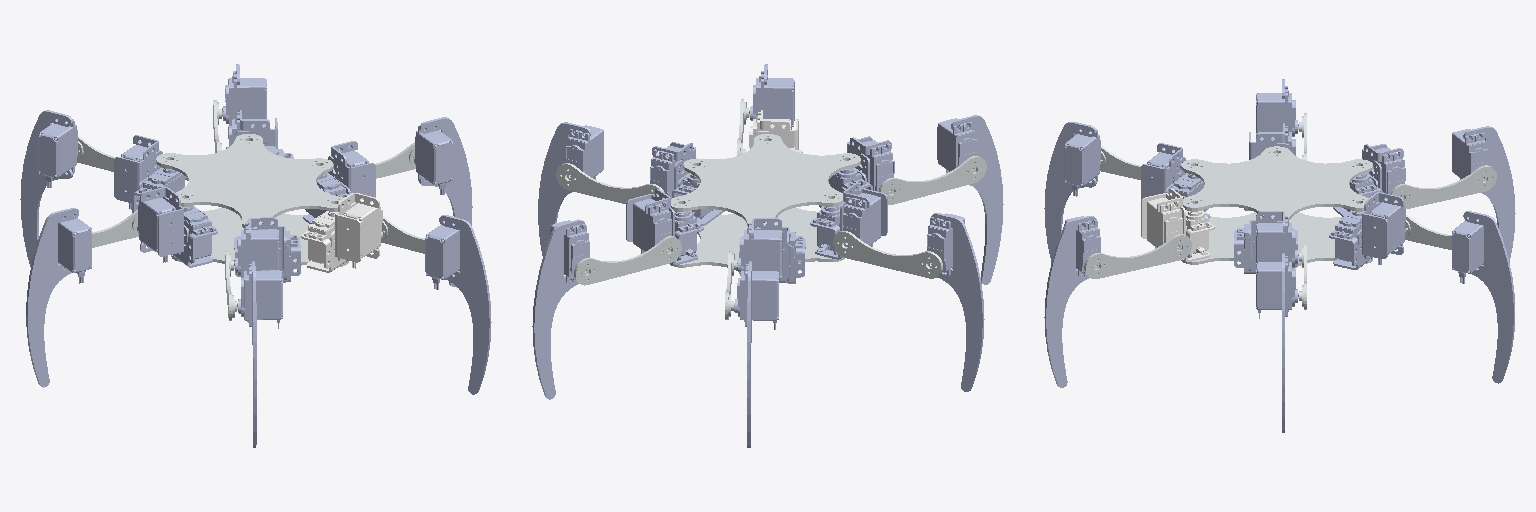
--- Render facts (derived) ---
3 views of the same robot in one strip: view 1: azimuth 30°, elevation 25°; view 2: azimuth 150°, elevation 25°; view 3: azimuth 270°, elevation 25° (orthographic).
Model spider URDF with 19 links and 18 joints (18 revolute), rooted at main_body, posed every joint at zero.
Links seen in each view (by area): view 1: main_body, L2_tibia, R3_tibia, L1_tibia, R3_coxa, L2_coxa, R2_tibia, L3_coxa, L1_coxa, L3_tibia, R2_coxa, R1_tibia (+5 smaller); view 2: main_body, L2_tibia, R1_tibia, L3_tibia, R2_tibia, L2_coxa, R1_coxa, L1_coxa, L1_tibia, R2_coxa, L3_coxa, L2_femur (+5 smaller); view 3: main_body, R1_tibia, R3_tibia, L3_tibia, R1_coxa, L1_tibia, R3_coxa, R2_coxa, R2_tibia, L3_coxa, R3_femur, L1_coxa (+5 smaller).
Link boxes in pixels (x1,y1,x2,y2): main_body: (156,134,348,266); L2_tibia: (26,208,91,387); R3_tibia: (425,215,491,394); L1_tibia: (20,110,77,266); R3_coxa: (301,193,382,272); L2_coxa: (137,187,217,267); R2_tibia: (414,117,472,286); L3_coxa: (234,217,300,282); L1_coxa: (114,135,187,212); L3_tibia: (237,261,282,447); R2_coxa: (303,141,375,223); R1_tibia: (222,64,266,125); main_body: (670,134,860,270); L2_tibia: (927,213,984,391); R1_tibia: (532,219,589,399); L3_tibia: (937,115,1003,284); R2_tibia: (538,122,603,255); L2_coxa: (810,183,887,259); R1_coxa: (626,189,703,264); L1_coxa: (737,218,805,283); L1_tibia: (734,261,778,447); R2_coxa: (650,142,724,225); L3_coxa: (819,136,894,207); L2_femur: (833,231,942,278); main_body: (1181,146,1372,268); R1_tibia: (1452,211,1514,383); R3_tibia: (1044,216,1100,387); L3_tibia: (1044,122,1100,262); R1_coxa: (1329,192,1405,269); L1_tibia: (1452,126,1515,262); R3_coxa: (1141,188,1214,261); R2_coxa: (1234,211,1298,273); R2_tibia: (1256,253,1298,432); L3_coxa: (1141,143,1209,217); R3_femur: (1084,234,1191,278); L1_coxa: (1333,144,1405,216).
Bounding box of the posed robot: 0.45 × 0.4288 × 0.1654 m (x, y, z).
Meshes: 19 distinct files referenced, 19 mesh visuals loaded (19 binary STL).

URDF robot description (spider URDF):
<?xml version="1.0" encoding="utf-8"?>
<!-- This URDF was automatically created by SolidWorks to URDF Exporter! Originally created by Stephen Brawner ([email redacted]) 
     Commit Version: 1.5.1-0-g916b5db  Build Version: 1.5.7152.31018
     For more information, please see http://wiki.ros.org/sw_urdf_exporter -->
<robot
  name="spider URDF">
  <link
    name="main_body">
    <inertial>
      <origin
        xyz="4.9901E-19 -0.024667 -4.6907E-18"
        rpy="0 0 0" />
      <mass
        value="0.27159" />
      <inertia
        ixx="0.00047029"
        ixy="9.2461E-22"
        ixz="-8.9369E-20"
        iyy="0.00076993"
        iyz="6.8455E-23"
        izz="0.00030006" />
    </inertial>
    <visual>
      <origin
        xyz="0 0 0"
        rpy="0 0 0" />
      <geometry>
        <mesh
          filename="package://spider URDF/meshes/main_body.STL" />
      </geometry>
      <material
        name="">
        <color
          rgba="0.89804 0.91765 0.92941 1" />
      </material>
    </visual>
    <collision>
      <origin
        xyz="0 0 0"
        rpy="0 0 0" />
      <geometry>
        <mesh
          filename="package://spider URDF/meshes/main_body.STL" />
      </geometry>
    </collision>
  </link>
  <link
    name="L1_coxa">
    <inertial>
      <origin
        xyz="0.024776 0.0016341 0.0035142"
        rpy="0 0 0" />
      <mass
        value="0.14547" />
      <inertia
        ixx="4.1777E-05"
        ixy="-5.3584E-07"
        ixz="5.3557E-07"
        iyy="2.672E-05"
        iyz="-4.9151E-13"
        izz="2.672E-05" />
    </inertial>
    <visual>
      <origin
        xyz="0 0 0"
        rpy="0 0 0" />
      <geometry>
        <mesh
          filename="package://spider URDF/meshes/L1_coxa.STL" />
      </geometry>
      <material
        name="">
        <color
          rgba="0.79216 0.81961 0.93333 1" />
      </material>
    </visual>
    <collision>
      <origin
        xyz="0 0 0"
        rpy="0 0 0" />
      <geometry>
        <mesh
          filename="package://spider URDF/meshes/L1_coxa.STL" />
      </geometry>
    </collision>
  </link>
  <joint
    name="L1_joint1"
    type="revolute">
    <origin
      xyz="-0.044415 0.061418 -0.023391"
      rpy="1.5708 0 2.0608" />
    <parent
      link="main_body" />
    <child
      link="L1_coxa" />
    <axis
      xyz="0 0 0" />
    <limit
      lower="0"
      upper="0"
      effort="0"
      velocity="0" />
  </joint>
  <link
    name="L1_femur">
    <inertial>
      <origin
        xyz="0.0425 0.0020723 -0.00096249"
        rpy="0 0 0" />
      <mass
        value="0.018954" />
      <inertia
        ixx="6.9019E-07"
        ixy="9.6701E-21"
        ixz="-3.3617E-21"
        iyy="1.6508E-05"
        iyz="2.0543E-21"
        izz="1.7168E-05" />
    </inertial>
    <visual>
      <origin
        xyz="0 0 0"
        rpy="0 0 0" />
      <geometry>
        <mesh
          filename="package://spider URDF/meshes/L1_femur.STL" />
      </geometry>
      <material
        name="">
        <color
          rgba="0.89804 0.92157 0.92941 1" />
      </material>
    </visual>
    <collision>
      <origin
        xyz="0 0 0"
        rpy="0 0 0" />
      <geometry>
        <mesh
          filename="package://spider URDF/meshes/L1_femur.STL" />
      </geometry>
    </collision>
  </link>
  <joint
    name="L1_joint2"
    type="revolute">
    <origin
      xyz="0.039646 -0.001781 0.034959"
      rpy="-3.1416 0 0" />
    <parent
      link="L1_coxa" />
    <child
      link="L1_femur" />
    <axis
      xyz="0 0 0" />
    <limit
      lower="0"
      upper="0"
      effort="0"
      velocity="0" />
  </joint>
  <link
    name="L1_tibia">
    <inertial>
      <origin
        xyz="0.017865 -0.00025918 0.013634"
        rpy="0 0 0" />
      <mass
        value="0.083453" />
      <inertia
        ixx="6.3949E-05"
        ixy="-1.3189E-10"
        ixz="-6.8552E-06"
        iyy="6.307E-05"
        iyz="-1.5501E-07"
        izz="1.127E-05" />
    </inertial>
    <visual>
      <origin
        xyz="0 0 0"
        rpy="0 0 0" />
      <geometry>
        <mesh
          filename="package://spider URDF/meshes/L1_tibia.STL" />
      </geometry>
      <material
        name="">
        <color
          rgba="0.79216 0.81961 0.93333 1" />
      </material>
    </visual>
    <collision>
      <origin
        xyz="0 0 0"
        rpy="0 0 0" />
      <geometry>
        <mesh
          filename="package://spider URDF/meshes/L1_tibia.STL" />
      </geometry>
    </collision>
  </link>
  <joint
    name="L1_joint3"
    type="revolute">
    <origin
      xyz="0.075094 -0.010287 0.023391"
      rpy="-1.5708 0 0" />
    <parent
      link="L1_femur" />
    <child
      link="L1_tibia" />
    <axis
      xyz="0 0 0" />
    <limit
      lower="0"
      upper="0"
      effort="0"
      velocity="0" />
  </joint>
  <link
    name="L2_coxa">
    <inertial>
      <origin
        xyz="0.024776 0.0016341 0.0035142"
        rpy="0 0 0" />
      <mass
        value="0.14547" />
      <inertia
        ixx="4.1777E-05"
        ixy="-5.3584E-07"
        ixz="5.3557E-07"
        iyy="2.672E-05"
        iyz="9.3978E-21"
        izz="2.672E-05" />
    </inertial>
    <visual>
      <origin
        xyz="0 0 0"
        rpy="0 0 0" />
      <geometry>
        <mesh
          filename="package://spider URDF/meshes/L2_coxa.STL" />
      </geometry>
      <material
        name="">
        <color
          rgba="0.79216 0.81961 0.93333 1" />
      </material>
    </visual>
    <collision>
      <origin
        xyz="0 0 0"
        rpy="0 0 0" />
      <geometry>
        <mesh
          filename="package://spider URDF/meshes/L2_coxa.STL" />
      </geometry>
    </collision>
  </link>
  <joint
    name="L2_joint1"
    type="revolute">
    <origin
      xyz="-0.057933 -0.010287 -0.023391"
      rpy="1.5708 0 -3.1416" />
    <parent
      link="main_body" />
    <child
      link="L2_coxa" />
    <axis
      xyz="0 0 0" />
    <limit
      lower="0"
      upper="0"
      effort="0"
      velocity="0" />
  </joint>
  <link
    name="L2_femur">
    <inertial>
      <origin
        xyz="0.0425 0.0020723 -0.00096249"
        rpy="0 0 0" />
      <mass
        value="0.018954" />
      <inertia
        ixx="6.9019E-07"
        ixy="1.0007E-21"
        ixz="8.0411E-21"
        iyy="1.6508E-05"
        iyz="1.6303E-21"
        izz="1.7168E-05" />
    </inertial>
    <visual>
      <origin
        xyz="0 0 0"
        rpy="0 0 0" />
      <geometry>
        <mesh
          filename="package://spider URDF/meshes/L2_femur.STL" />
      </geometry>
      <material
        name="">
        <color
          rgba="0.89804 0.92157 0.92941 1" />
      </material>
    </visual>
    <collision>
      <origin
        xyz="0 0 0"
        rpy="0 0 0" />
      <geometry>
        <mesh
          filename="package://spider URDF/meshes/L2_femur.STL" />
      </geometry>
    </collision>
  </link>
  <joint
    name="L2_joint2"
    type="revolute">
    <origin
      xyz="0.039646 -0.001781 0.034959"
      rpy="3.1416 0 0" />
    <parent
      link="L2_coxa" />
    <child
      link="L2_femur" />
    <axis
      xyz="0 0 0" />
    <limit
      lower="0"
      upper="0"
      effort="0"
      velocity="0" />
  </joint>
  <link
    name="L2_tibia">
    <inertial>
      <origin
        xyz="0.017865 -0.00025918 0.013634"
        rpy="0 0 0" />
      <mass
        value="0.083453" />
      <inertia
        ixx="6.3949E-05"
        ixy="-1.3191E-10"
        ixz="-6.8552E-06"
        iyy="6.307E-05"
        iyz="-1.5501E-07"
        izz="1.127E-05" />
    </inertial>
    <visual>
      <origin
        xyz="0 0 0"
        rpy="0 0 0" />
      <geometry>
        <mesh
          filename="package://spider URDF/meshes/L2_tibia.STL" />
      </geometry>
      <material
        name="">
        <color
          rgba="0.79216 0.81961 0.93333 1" />
      </material>
    </visual>
    <collision>
      <origin
        xyz="0 0 0"
        rpy="0 0 0" />
      <geometry>
        <mesh
          filename="package://spider URDF/meshes/L2_tibia.STL" />
      </geometry>
    </collision>
  </link>
  <joint
    name="L2_joint3"
    type="revolute">
    <origin
      xyz="0.075094 -0.010287 0.023391"
      rpy="-1.5708 0 0" />
    <parent
      link="L2_femur" />
    <child
      link="L2_tibia" />
    <axis
      xyz="0 0 0" />
    <limit
      lower="0"
      upper="0"
      effort="0"
      velocity="0" />
  </joint>
  <link
    name="L3_coxa">
    <inertial>
      <origin
        xyz="0.0247761020098556 0.00163413195267163 0.00351420592765425"
        rpy="0 0 0" />
      <mass
        value="0.145467159991245" />
      <inertia
        ixx="4.17771437174694E-05"
        ixy="-5.35841791312057E-07"
        ixz="5.35574459198207E-07"
        iyy="2.67197998012243E-05"
        iyz="-4.54267233403865E-13"
        izz="2.67198002995217E-05" />
    </inertial>
    <visual>
      <origin
        xyz="0 0 0"
        rpy="0 0 0" />
      <geometry>
        <mesh
          filename="package://spider URDF/meshes/L3_coxa.STL" />
      </geometry>
      <material
        name="">
        <color
          rgba="0.792156862745098 0.819607843137255 0.933333333333333 1" />
      </material>
    </visual>
    <collision>
      <origin
        xyz="0 0 0"
        rpy="0 0 0" />
      <geometry>
        <mesh
          filename="package://spider URDF/meshes/L3_coxa.STL" />
      </geometry>
    </collision>
  </link>
  <joint
    name="L3_joint1"
    type="revolute">
    <origin
      xyz="-0.026262 -0.0711 -0.023391"
      rpy="1.5708 0 -2.0608" />
    <parent
      link="main_body" />
    <child
      link="L3_coxa" />
    <axis
      xyz="0 0 0" />
    <limit
      lower="0"
      upper="0"
      effort="0"
      velocity="0" />
  </joint>
  <link
    name="L3_femur">
    <inertial>
      <origin
        xyz="0.0424999999999998 0.00207234047327515 -0.000962489733139935"
        rpy="0 0 0" />
      <mass
        value="0.0189543856263249" />
      <inertia
        ixx="6.90193645790596E-07"
        ixy="1.27381764483632E-20"
        ixz="4.39398341388168E-21"
        iyy="1.6507785713016E-05"
        iyz="1.73571570000484E-21"
        izz="1.71682624360507E-05" />
    </inertial>
    <visual>
      <origin
        xyz="0 0 0"
        rpy="0 0 0" />
      <geometry>
        <mesh
          filename="package://spider URDF/meshes/L3_femur.STL" />
      </geometry>
      <material
        name="">
        <color
          rgba="0.898039215686275 0.92156862745098 0.929411764705882 1" />
      </material>
    </visual>
    <collision>
      <origin
        xyz="0 0 0"
        rpy="0 0 0" />
      <geometry>
        <mesh
          filename="package://spider URDF/meshes/L3_femur.STL" />
      </geometry>
    </collision>
  </link>
  <joint
    name="L3_joint2"
    type="revolute">
    <origin
      xyz="0.039646 -0.001781 0.034959"
      rpy="3.1416 0 0" />
    <parent
      link="L3_coxa" />
    <child
      link="L3_femur" />
    <axis
      xyz="0 0 0" />
    <limit
      lower="0"
      upper="0"
      effort="0"
      velocity="0" />
  </joint>
  <link
    name="L3_tibia">
    <inertial>
      <origin
        xyz="0.0178645520428122 -0.000259178845722352 0.0136344638552385"
        rpy="0 0 0" />
      <mass
        value="0.0834526923953858" />
      <inertia
        ixx="6.39493660790735E-05"
        ixy="-1.31925906158266E-10"
        ixz="-6.8551643119347E-06"
        iyy="6.30699307053158E-05"
        iyz="-1.55008121913509E-07"
        izz="1.1270061788477E-05" />
    </inertial>
    <visual>
      <origin
        xyz="0 0 0"
        rpy="0 0 0" />
      <geometry>
        <mesh
          filename="package://spider URDF/meshes/L3_tibia.STL" />
      </geometry>
      <material
        name="">
        <color
          rgba="0.792156862745098 0.819607843137255 0.933333333333333 1" />
      </material>
    </visual>
    <collision>
      <origin
        xyz="0 0 0"
        rpy="0 0 0" />
      <geometry>
        <mesh
          filename="package://spider URDF/meshes/L3_tibia.STL" />
      </geometry>
    </collision>
  </link>
  <joint
    name="L3_joint3"
    type="revolute">
    <origin
      xyz="0.075094 -0.010287 0.023391"
      rpy="-1.5708 0 0" />
    <parent
      link="L3_femur" />
    <child
      link="L3_tibia" />
    <axis
      xyz="0 0 0" />
    <limit
      lower="0"
      upper="0"
      effort="0"
      velocity="0" />
  </joint>
  <link
    name="R1_coxa">
    <inertial>
      <origin
        xyz="-0.00496389814092921 0.00163413195267159 0.00351420592765427"
        rpy="0 0 0" />
      <mass
        value="0.145467159991244" />
      <inertia
        ixx="4.17771437174693E-05"
        ixy="5.35468938005543E-07"
        ixz="-5.35736270119368E-07"
        iyy="2.67197998012243E-05"
        iyz="-4.5426722982148E-13"
        izz="2.67198002995216E-05" />
    </inertial>
    <visual>
      <origin
        xyz="0 0 0"
        rpy="0 0 0" />
      <geometry>
        <mesh
          filename="package://spider URDF/meshes/R1_coxa.STL" />
      </geometry>
      <material
        name="">
        <color
          rgba="0.792156862745098 0.819607843137255 0.933333333333333 1" />
      </material>
    </visual>
    <collision>
      <origin
        xyz="0 0 0"
        rpy="0 0 0" />
      <geometry>
        <mesh
          filename="package://spider URDF/meshes/R1_coxa.STL" />
      </geometry>
    </collision>
  </link>
  <joint
    name="R1_joint1"
    type="revolute">
    <origin
      xyz="0.053738 0.0789 -0.023391"
      rpy="1.5708 0 -2.0608" />
    <parent
      link="main_body" />
    <child
      link="R1_coxa" />
    <axis
      xyz="0 0 0" />
    <limit
      lower="0"
      upper="0"
      effort="0"
      velocity="0" />
  </joint>
  <link
    name="R1_femur">
    <inertial>
      <origin
        xyz="-0.0425000000015365 0.00207234047173503 -0.000962489734160528"
        rpy="0 0 0" />
      <mass
        value="0.0189543856263249" />
      <inertia
        ixx="6.90193645790598E-07"
        ixy="5.86660156904445E-21"
        ixz="3.70576914423756E-21"
        iyy="1.65077857130159E-05"
        iyz="1.980438158562E-21"
        izz="1.71682624360507E-05" />
    </inertial>
    <visual>
      <origin
        xyz="0 0 0"
        rpy="0 0 0" />
      <geometry>
        <mesh
          filename="package://spider URDF/meshes/R1_femur.STL" />
      </geometry>
      <material
        name="">
        <color
          rgba="0.898039215686275 0.92156862745098 0.929411764705882 1" />
      </material>
    </visual>
    <collision>
      <origin
        xyz="0 0 0"
        rpy="0 0 0" />
      <geometry>
        <mesh
          filename="package://spider URDF/meshes/R1_femur.STL" />
      </geometry>
    </collision>
  </link>
  <joint
    name="R1_joint2"
    type="revolute">
    <origin
      xyz="-0.019834 -0.001781 0.034959"
      rpy="3.1416 0 0" />
    <parent
      link="R1_coxa" />
    <child
      link="R1_femur" />
    <axis
      xyz="0 0 0" />
    <limit
      lower="0"
      upper="0"
      effort="0"
      velocity="0" />
  </joint>
  <link
    name="R1_tibia">
    <inertial>
      <origin
        xyz="0.00194762565089338 -0.000259206689439198 0.0136344638552385"
        rpy="0 0 0" />
      <mass
        value="0.0834526923953859" />
      <inertia
        ixx="6.39493660790734E-05"
        ixy="-1.31925906144713E-10"
        ixz="6.85526981343424E-06"
        iyy="6.30699307053149E-05"
        iyz="-1.54967811581959E-07"
        izz="1.12700617884764E-05" />
    </inertial>
    <visual>
      <origin
        xyz="0 0 0"
        rpy="0 0 0" />
      <geometry>
        <mesh
          filename="package://spider URDF/meshes/R1_tibia.STL" />
      </geometry>
      <material
        name="">
        <color
          rgba="0.792156862745098 0.819607843137255 0.933333333333333 1" />
      </material>
    </visual>
    <collision>
      <origin
        xyz="0 0 0"
        rpy="0 0 0" />
      <geometry>
        <mesh
          filename="package://spider URDF/meshes/R1_tibia.STL" />
      </geometry>
    </collision>
  </link>
  <joint
    name="R1_joint3"
    type="revolute">
    <origin
      xyz="-0.094906 -0.010287 0.023391"
      rpy="-1.5708 0 0" />
    <parent
      link="R1_femur" />
    <child
      link="R1_tibia" />
    <axis
      xyz="0 0 0" />
    <limit
      lower="0"
      upper="0"
      effort="0"
      velocity="0" />
  </joint>
  <link
    name="R2_coxa">
    <inertial>
      <origin
        xyz="-0.00496389801348969 0.00163413188564857 0.00351420600696525"
        rpy="0 0 0" />
      <mass
        value="0.145467159253711" />
      <inertia
        ixx="4.1777143942296E-05"
        ixy="5.35468967108607E-07"
        ixz="-5.35736249547094E-07"
        iyy="2.67198002179656E-05"
        iyz="8.92031572577187E-21"
        izz="2.67198002179656E-05" />
    </inertial>
    <visual>
      <origin
        xyz="0 0 0"
        rpy="0 0 0" />
      <geometry>
        <mesh
          filename="package://spider URDF/meshes/R2_coxa.STL" />
      </geometry>
      <material
        name="">
        <color
          rgba="0.792156862745098 0.819607843137255 0.933333333333333 1" />
      </material>
    </visual>
    <collision>
      <origin
        xyz="0 0 0"
        rpy="0 0 0" />
      <geometry>
        <mesh
          filename="package://spider URDF/meshes/R2_coxa.STL" />
      </geometry>
    </collision>
  </link>
  <joint
    name="R2_joint1"
    type="revolute">
    <origin
      xyz="0.077745 -0.010287 -0.023391"
      rpy="1.5708 0 -3.1416" />
    <parent
      link="main_body" />
    <child
      link="R2_coxa" />
    <axis
      xyz="0 0 0" />
    <limit
      lower="0"
      upper="0"
      effort="0"
      velocity="0" />
  </joint>
  <link
    name="R2_femur">
    <inertial>
      <origin
        xyz="-0.0425 0.00207234047327526 -0.000962489733139962"
        rpy="0 0 0" />
      <mass
        value="0.018954385626325" />
      <inertia
        ixx="6.90193645790599E-07"
        ixy="-1.40410084116602E-21"
        ixz="1.79311429736983E-20"
        iyy="1.6507785713016E-05"
        iyz="2.69039882739031E-21"
        izz="1.71682624360508E-05" />
    </inertial>
    <visual>
      <origin
        xyz="0 0 0"
        rpy="0 0 0" />
      <geometry>
        <mesh
          filename="package://spider URDF/meshes/R2_femur.STL" />
      </geometry>
      <material
        name="">
        <color
          rgba="0.898039215686275 0.92156862745098 0.929411764705882 1" />
      </material>
    </visual>
    <collision>
      <origin
        xyz="0 0 0"
        rpy="0 0 0" />
      <geometry>
        <mesh
          filename="package://spider URDF/meshes/R2_femur.STL" />
      </geometry>
    </collision>
  </link>
  <joint
    name="R2_joint2"
    type="revolute">
    <origin
      xyz="-0.019834 -0.001781 0.034959"
      rpy="-3.1416 0 0" />
    <parent
      link="R2_coxa" />
    <child
      link="R2_femur" />
    <axis
      xyz="0 0 0" />
    <limit
      lower="0"
      upper="0"
      effort="0"
      velocity="0" />
  </joint>
  <link
    name="R2_tibia">
    <inertial>
      <origin
        xyz="0.00194762587080183 -0.000259206946198058 0.0136344632777333"
        rpy="0 0 0" />
      <mass
        value="0.0834526902175733" />
      <inertia
        ixx="6.39493650348895E-05"
        ixy="-1.31909002296199E-10"
        ixz="6.85526996665234E-06"
        iyy="6.3069928711245E-05"
        iyz="-1.54967735044572E-07"
        izz="1.12700615287123E-05" />
    </inertial>
    <visual>
      <origin
        xyz="0 0 0"
        rpy="0 0 0" />
      <geometry>
        <mesh
          filename="package://spider URDF/meshes/R2_tibia.STL" />
      </geometry>
      <material
        name="">
        <color
          rgba="0.792156862745098 0.819607843137255 0.933333333333333 1" />
      </material>
    </visual>
    <collision>
      <origin
        xyz="0 0 0"
        rpy="0 0 0" />
      <geometry>
        <mesh
          filename="package://spider URDF/meshes/R2_tibia.STL" />
      </geometry>
    </collision>
  </link>
  <joint
    name="R2_joint3"
    type="revolute">
    <origin
      xyz="-0.094906 -0.010287 0.023391"
      rpy="-1.5708 0 0" />
    <parent
      link="R2_femur" />
    <child
      link="R2_tibia" />
    <axis
      xyz="0 0 0" />
    <limit
      lower="0"
      upper="0"
      effort="0"
      velocity="0" />
  </joint>
  <link
    name="R3_coxa">
    <inertial>
      <origin
        xyz="0 0 0"
        rpy="0 0 0" />
      <mass
        value="0" />
      <inertia
        ixx="0"
        ixy="0"
        ixz="0"
        iyy="0"
        iyz="0"
        izz="0" />
    </inertial>
    <visual>
      <origin
        xyz="0 0 0"
        rpy="0 0 0" />
      <geometry>
        <mesh
          filename="package://spider URDF/meshes/R3_coxa.STL" />
      </geometry>
      <material
        name="">
        <color
          rgba="1 1 1 1" />
      </material>
    </visual>
    <collision>
      <origin
        xyz="0 0 0"
        rpy="0 0 0" />
      <geometry>
        <mesh
          filename="package://spider URDF/meshes/R3_coxa.STL" />
      </geometry>
    </collision>
  </link>
  <joint
    name="R3_joint1"
    type="revolute">
    <origin
      xyz="0.035585 -0.088582 -0.023391"
      rpy="1.5708 0 2.0608" />
    <parent
      link="main_body" />
    <child
      link="R3_coxa" />
    <axis
      xyz="0 0 0" />
    <limit
      lower="0"
      upper="0"
      effort="0"
      velocity="0" />
  </joint>
  <link
    name="R3_femur">
    <inertial>
      <origin
        xyz="-0.0425000000000001 0.00207234047327527 -0.000962489733140046"
        rpy="0 0 0" />
      <mass
        value="0.018954385626325" />
      <inertia
        ixx="6.901936457906E-07"
        ixy="-3.6725712378403E-21"
        ixz="-2.00640929380862E-20"
        iyy="1.6507785713016E-05"
        iyz="3.09244901215033E-21"
        izz="1.71682624360508E-05" />
    </inertial>
    <visual>
      <origin
        xyz="0 0 0"
        rpy="0 0 0" />
      <geometry>
        <mesh
          filename="package://spider URDF/meshes/R3_femur.STL" />
      </geometry>
      <material
        name="">
        <color
          rgba="0.898039215686275 0.92156862745098 0.929411764705882 1" />
      </material>
    </visual>
    <collision>
      <origin
        xyz="0 0 0"
        rpy="0 0 0" />
      <geometry>
        <mesh
          filename="package://spider URDF/meshes/R3_femur.STL" />
      </geometry>
    </collision>
  </link>
  <joint
    name="R3_joint2"
    type="revolute">
    <origin
      xyz="-0.019834 -0.001781 0.034959"
      rpy="-3.1416 0 0" />
    <parent
      link="R3_coxa" />
    <child
      link="R3_femur" />
    <axis
      xyz="0 0 0" />
    <limit
      lower="0"
      upper="0"
      effort="0"
      velocity="0" />
  </joint>
  <link
    name="R3_tibia">
    <inertial>
      <origin
        xyz="0.00194762621390129 -0.000259206874815343 0.0136344624812394"
        rpy="0 0 0" />
      <mass
        value="0.0834526895579443" />
      <inertia
        ixx="6.39493635604439E-05"
        ixy="-1.3188961409821E-10"
        ixz="6.85527012743982E-06"
        iyy="6.30699268556516E-05"
        iyz="-1.54967636024375E-07"
        izz="1.12700604534222E-05" />
    </inertial>
    <visual>
      <origin
        xyz="0 0 0"
        rpy="0 0 0" />
      <geometry>
        <mesh
          filename="package://spider URDF/meshes/R3_tibia.STL" />
      </geometry>
      <material
        name="">
        <color
          rgba="0.792156862745098 0.819607843137255 0.933333333333333 1" />
      </material>
    </visual>
    <collision>
      <origin
        xyz="0 0 0"
        rpy="0 0 0" />
      <geometry>
        <mesh
          filename="package://spider URDF/meshes/R3_tibia.STL" />
      </geometry>
    </collision>
  </link>
  <joint
    name="R3_joint3"
    type="revolute">
    <origin
      xyz="-0.094906 -0.010287 0.023391"
      rpy="-1.5708 0 0" />
    <parent
      link="R3_femur" />
    <child
      link="R3_tibia" />
    <axis
      xyz="0 0 0" />
    <limit
      lower="0"
      upper="0"
      effort="0"
      velocity="0" />
  </joint>
</robot>
